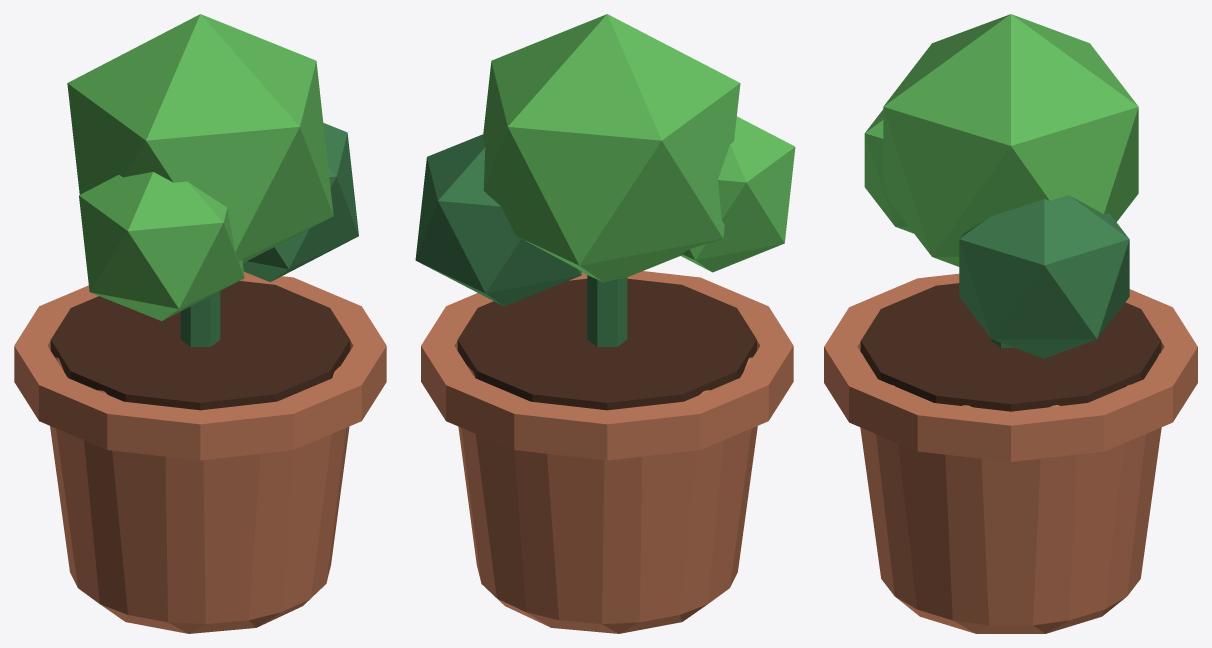
File: CatCafe_Decor_PlantPot.glb
The picture shows the model from 3 angles, left to right: view 1: azimuth 30°, elevation 25°; view 2: azimuth 150°, elevation 25°; view 3: azimuth 270°, elevation 25°; orthographic projection.
Parts seen in each view (by area): view 1: CatCafe_Decor_PlantPot; view 2: CatCafe_Decor_PlantPot; view 3: CatCafe_Decor_PlantPot.
Part boxes in pixels (box(x1,y1,x2,y2)): CatCafe_Decor_PlantPot: box(14, 14, 386, 633); CatCafe_Decor_PlantPot: box(415, 14, 795, 633); CatCafe_Decor_PlantPot: box(824, 14, 1197, 633).
Size of the model in its own units: 1.13 by 1.9 by 1.12.
Materials: 1 (1 with a texture image).
